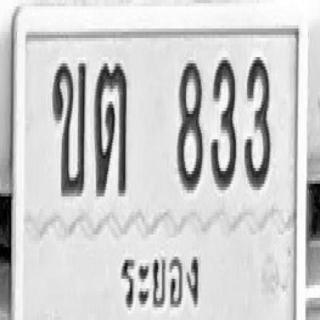A02: (51, 60, 86, 196)
A21: (94, 60, 127, 196)
N03: (244, 55, 271, 188), (210, 57, 236, 190)
N08: (176, 60, 203, 190)
P53: (116, 240, 207, 320)
